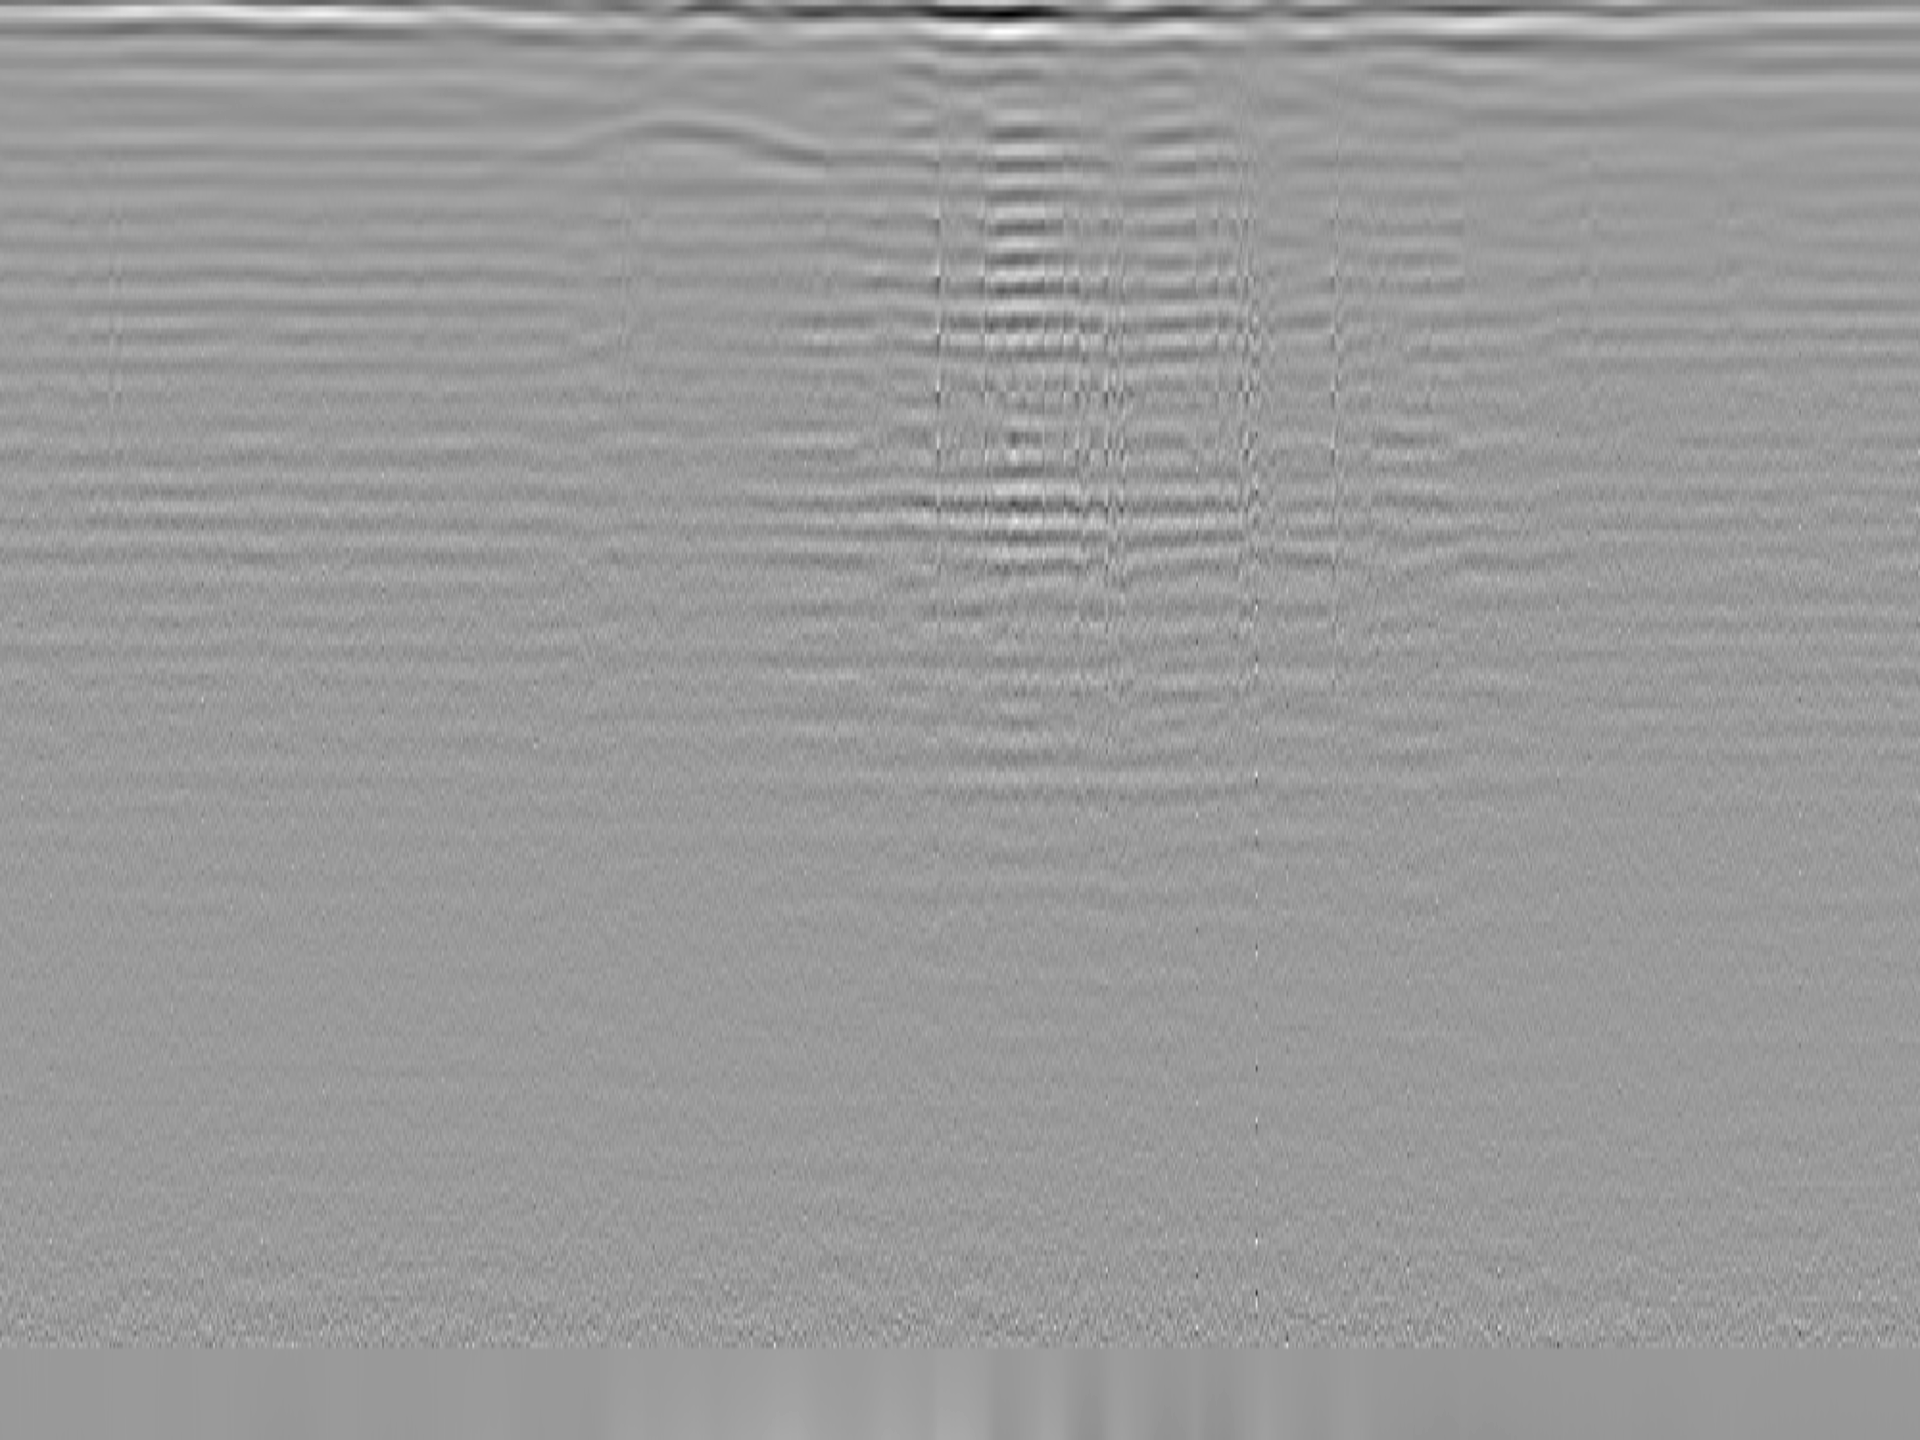Tunnel: (556, 109, 838, 166)
